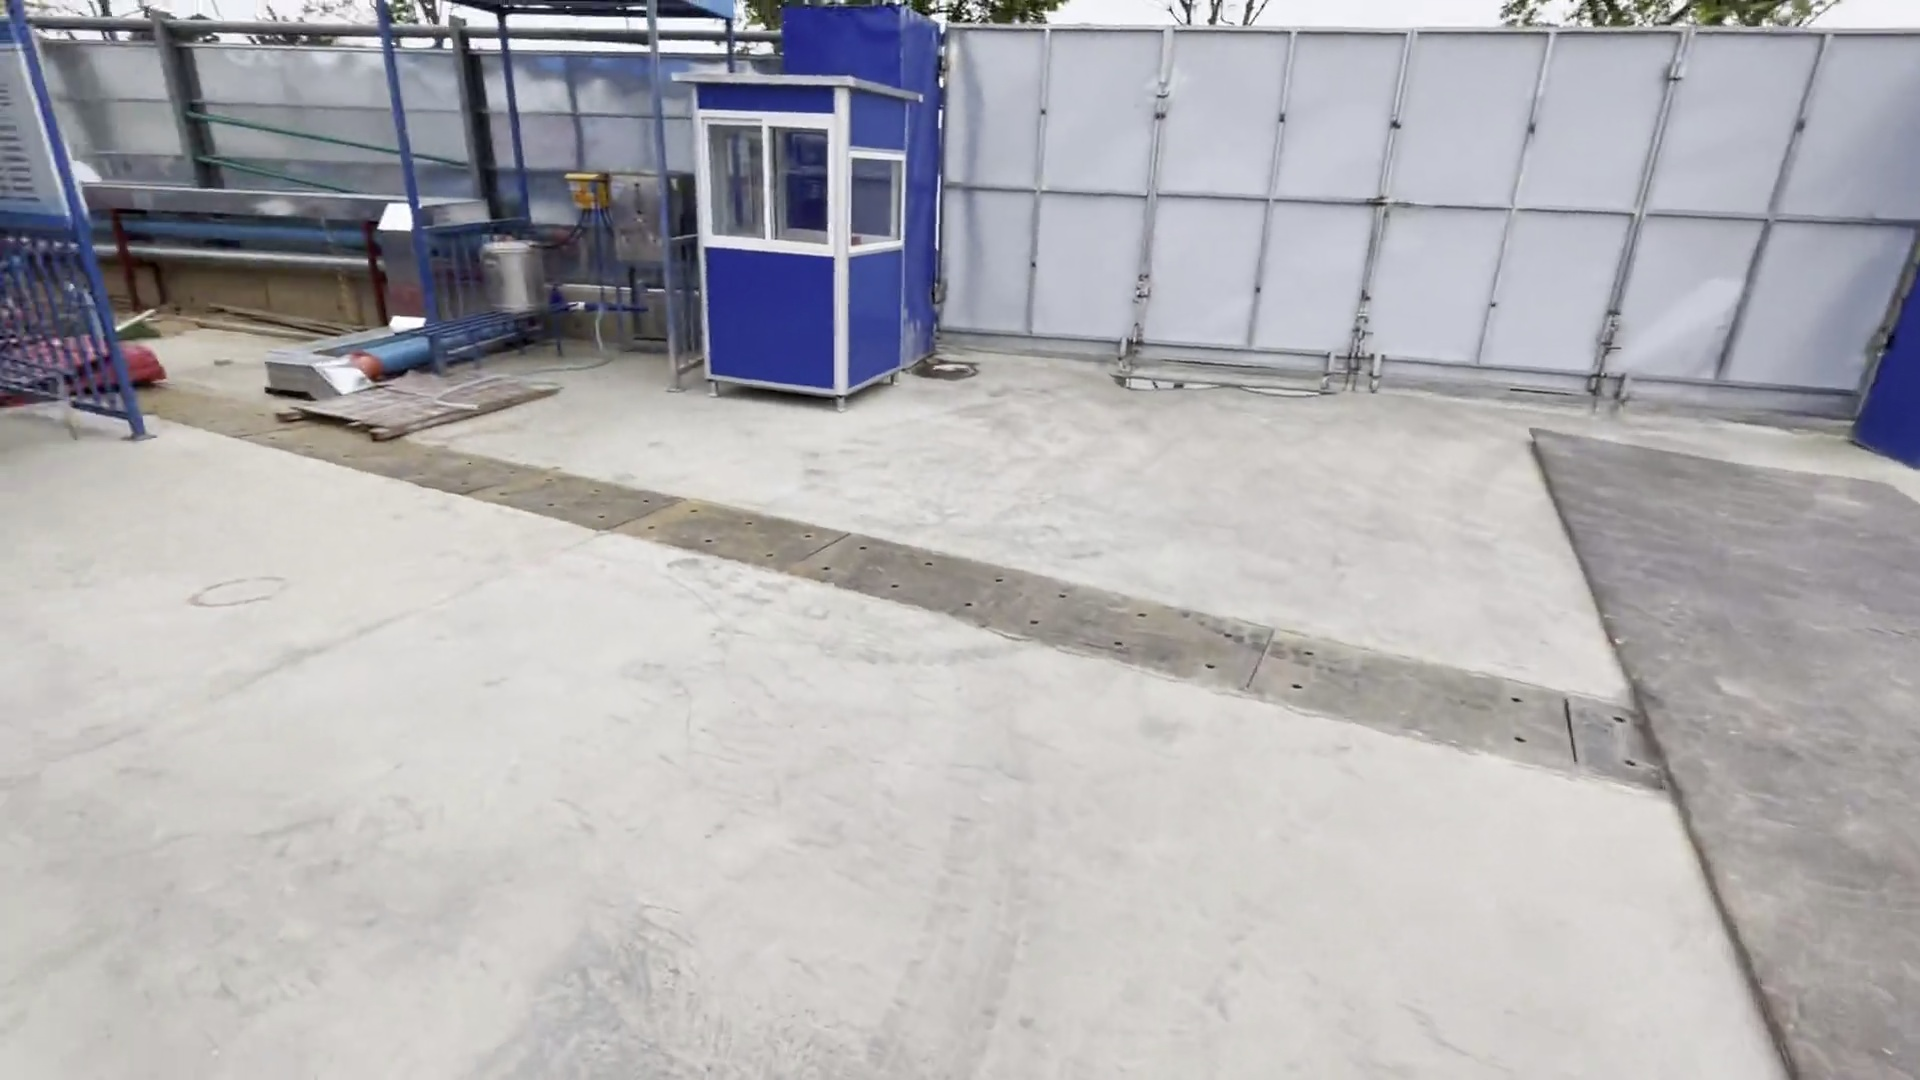ebox: (562, 173, 608, 214)
